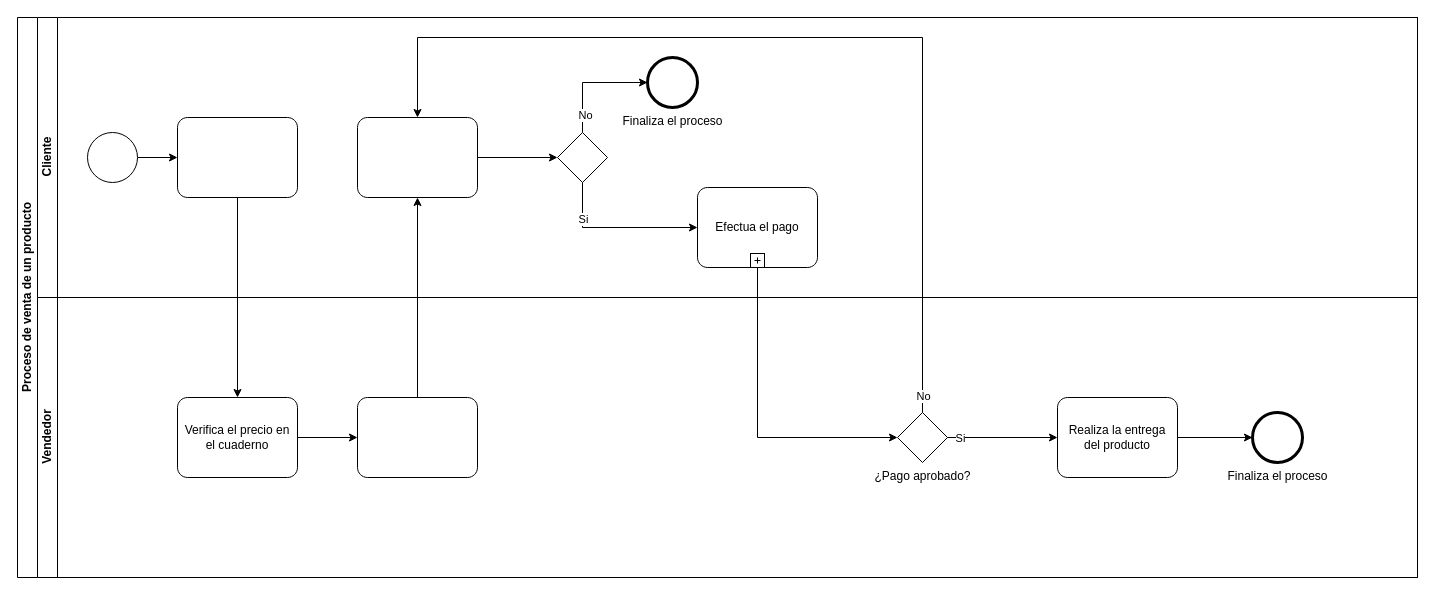
This 1435x595 diagram has some shape labels left out. Here are the shapes that lost their labels. From the top down, the centre of each, then its label:
At (237,157): "Ve un producto y consulta por el precio".
At (417,157): "Decide si llevar el producto".
At (582,157): "¿Lo lleva?".
At (417,437): "Notifica el precio del producto al cliente".
